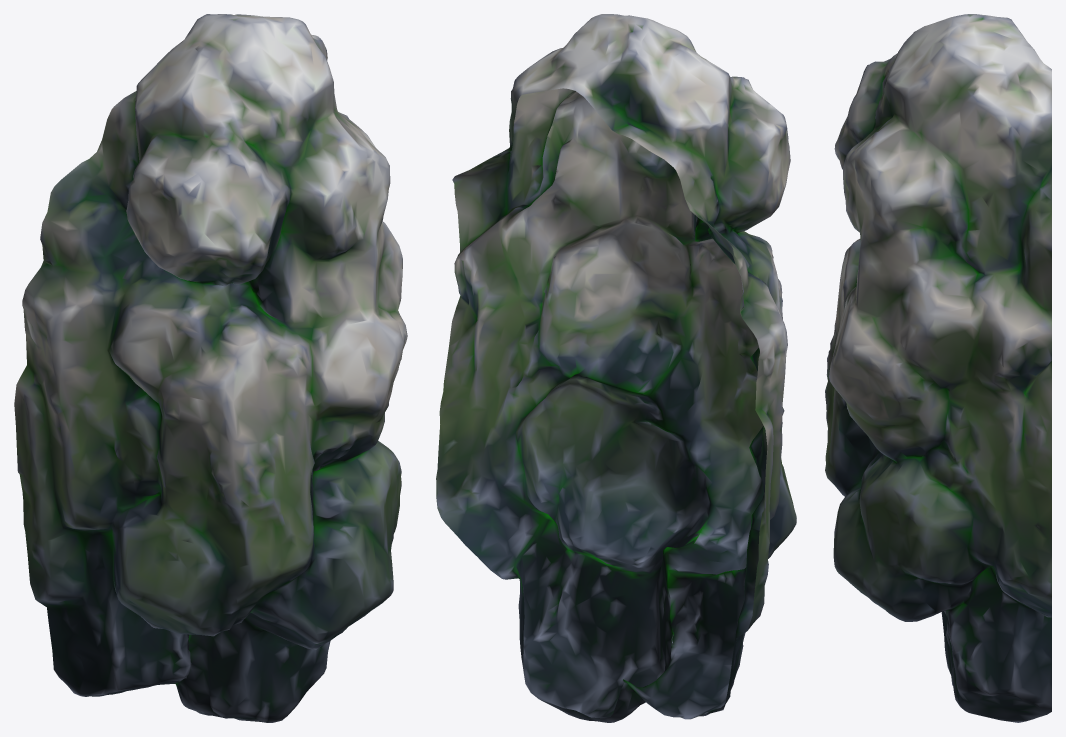
Rendered from M_Cliff_Rock_T15.fbx.
The picture shows the model from 3 angles, left to right: view 1: azimuth 30°, elevation 25°; view 2: azimuth 150°, elevation 25°; view 3: azimuth 270°, elevation 25°; orthographic projection. The views are drawn at different scales.
Parts seen in each view (by area): view 1: M_Cliff_Rock_T15; view 2: M_Cliff_Rock_T15; view 3: M_Cliff_Rock_T15.
Part boxes in pixels (x1=…): M_Cliff_Rock_T15: x1=14, y1=14, x2=407, y2=722; M_Cliff_Rock_T15: x1=436, y1=14, x2=796, y2=722; M_Cliff_Rock_T15: x1=825, y1=14, x2=1051, y2=722.
Bounding box in the file's own units: 11.82 × 23.18 × 6.92.
